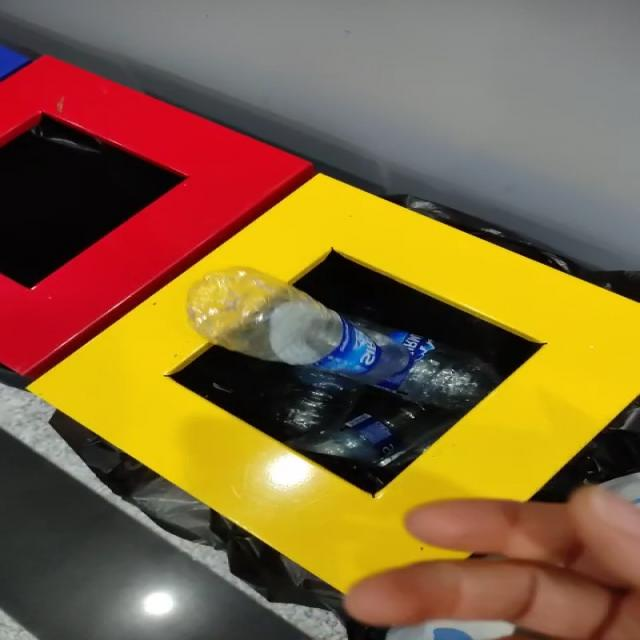plastic: (187, 268, 501, 435)
